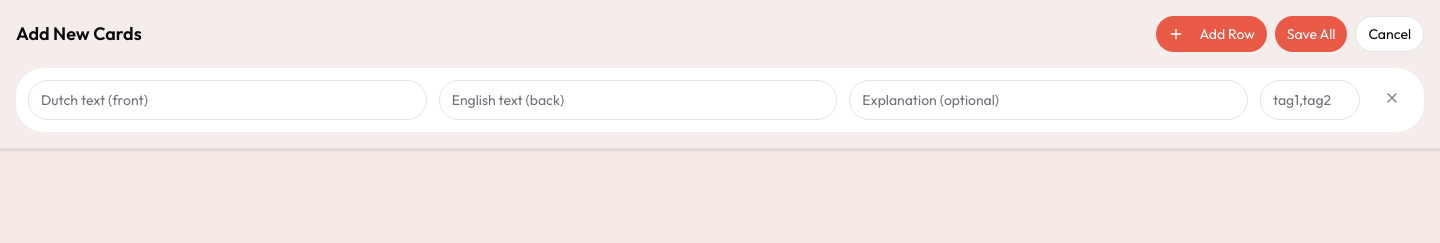
Test: BulkCardCreator › should add new row when Add Row button is clicked
Click the button "Add Row": x=1211, y=34 top-left (1156, 16), bottom-right (1267, 52)
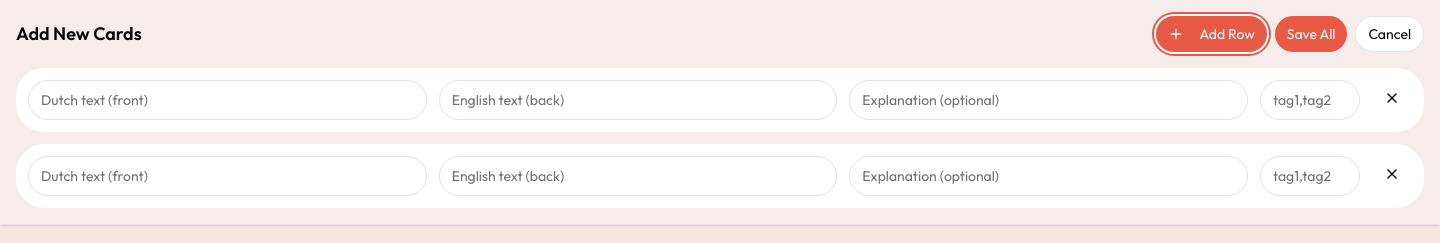
Now the number of fields with placeholder "Dutch text (front)" is 2, box top-left (28, 80), bottom-right (427, 120); top-left (28, 156), bottom-right (427, 196)
